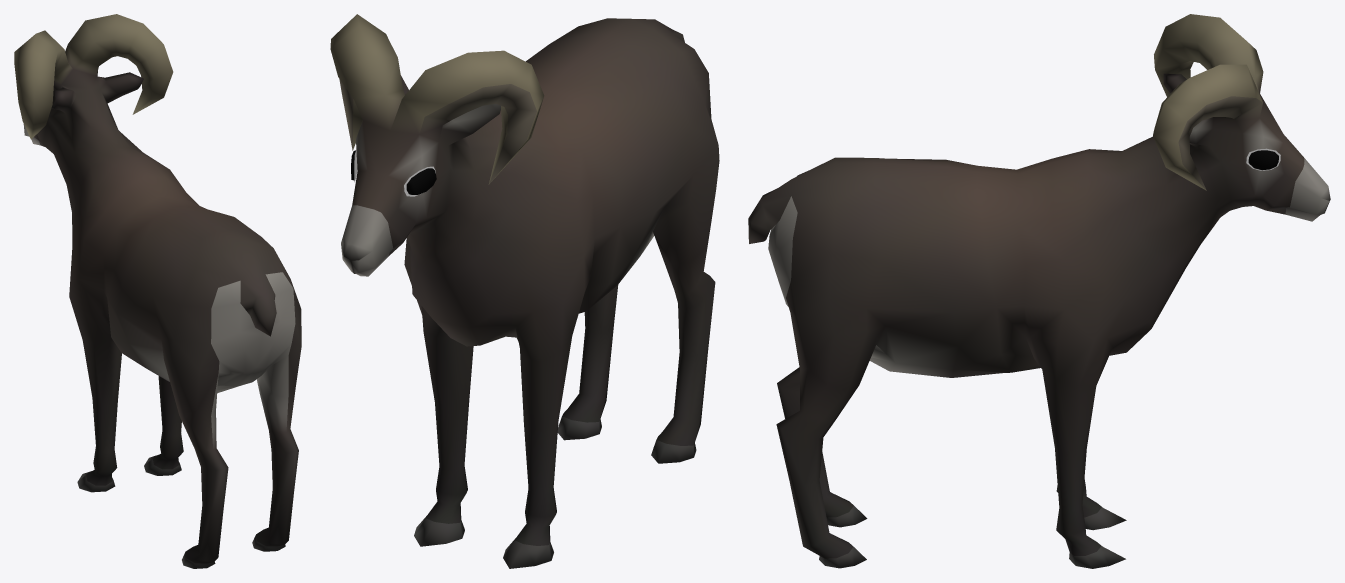
File: BighornSheep1.min.glb
3 renders of one model, left to right at view 1: azimuth 30°, elevation 25°; view 2: azimuth 150°, elevation 25°; view 3: azimuth 270°, elevation 25°, orthographic. The views are drawn at different scales.
Parts seen in each view (by area): view 1: BighornSheep1; view 2: BighornSheep1; view 3: BighornSheep1.
Boxes of the visible parts, x1=… form: BighornSheep1: x1=14, y1=14, x2=301, y2=568; BighornSheep1: x1=330, y1=14, x2=719, y2=568; BighornSheep1: x1=748, y1=14, x2=1330, y2=568.
Size of the model in its own units: 0.5066 by 1.34 by 1.42.
